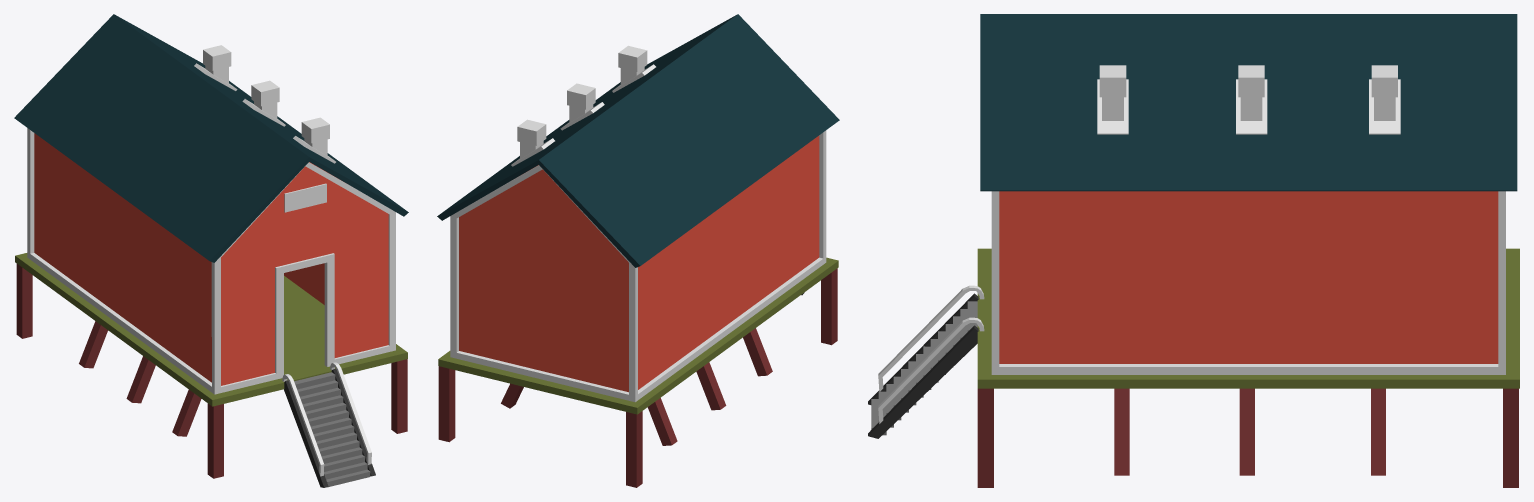
Rendered from House_17.FBX.
The picture shows the model from 3 angles, left to right: view 1: azimuth 30°, elevation 25°; view 2: azimuth 150°, elevation 25°; view 3: azimuth 270°, elevation 25°; orthographic projection. The views are drawn at different scales.
Parts seen in each view (by area): view 1: House_17; view 2: House_17; view 3: House_17.
Boxes of the visible parts, box(x1,y1,x2,y2) form: House_17: box(14, 14, 408, 487); House_17: box(437, 14, 839, 487); House_17: box(868, 14, 1519, 487).
Size of the model in its own units: 4.14 by 5.89 by 8.52.
1 material, 1 textured.
